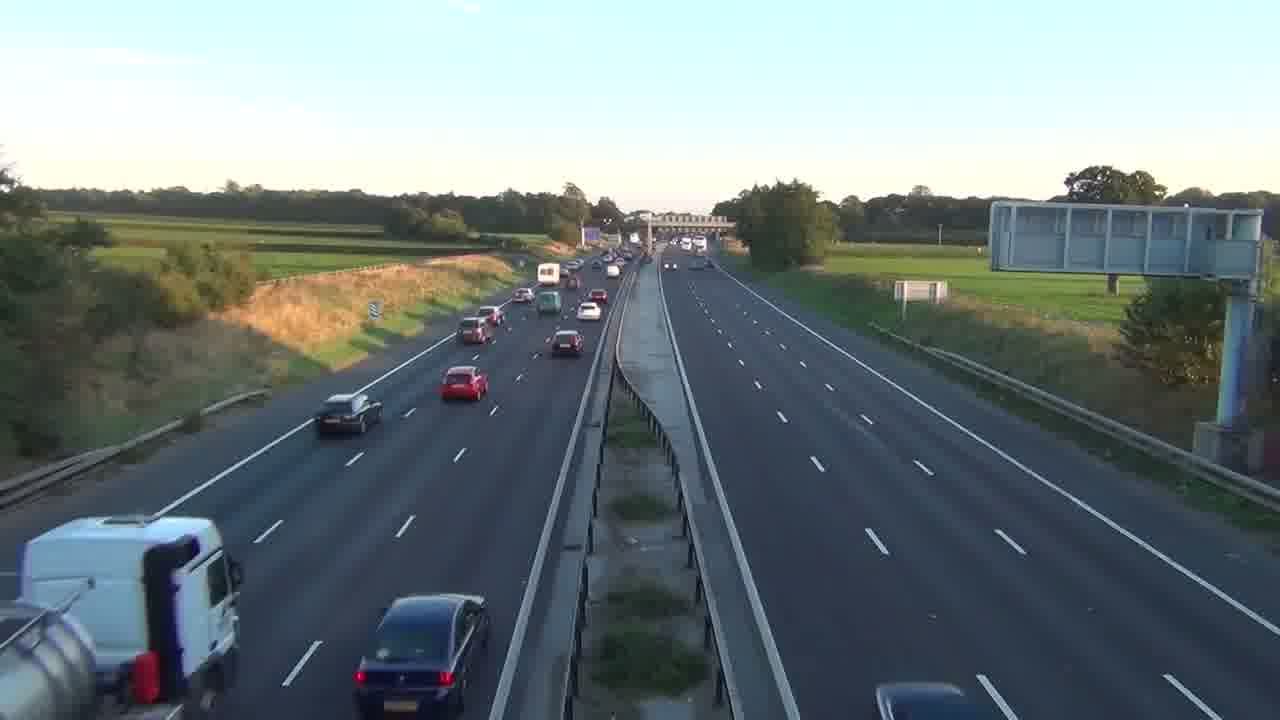car: (352, 592, 489, 718), (317, 390, 383, 436), (438, 365, 489, 402), (549, 329, 584, 357)
truck: (17, 512, 245, 708), (352, 592, 489, 718)
